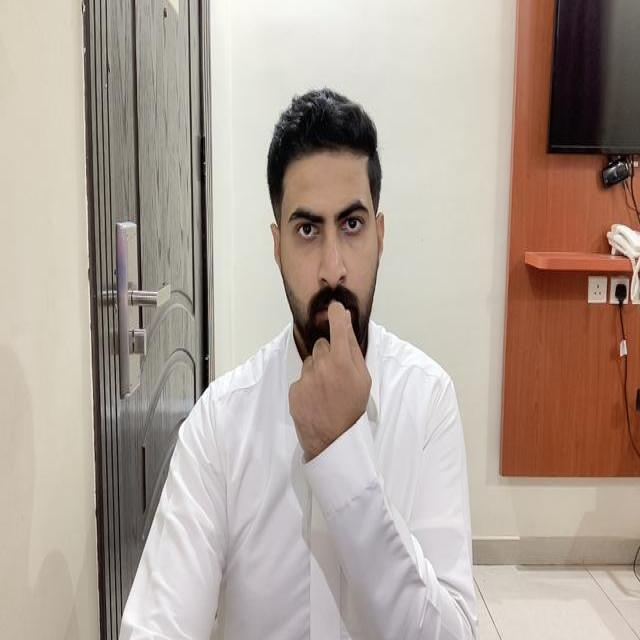medicine: (287, 299, 372, 461)
